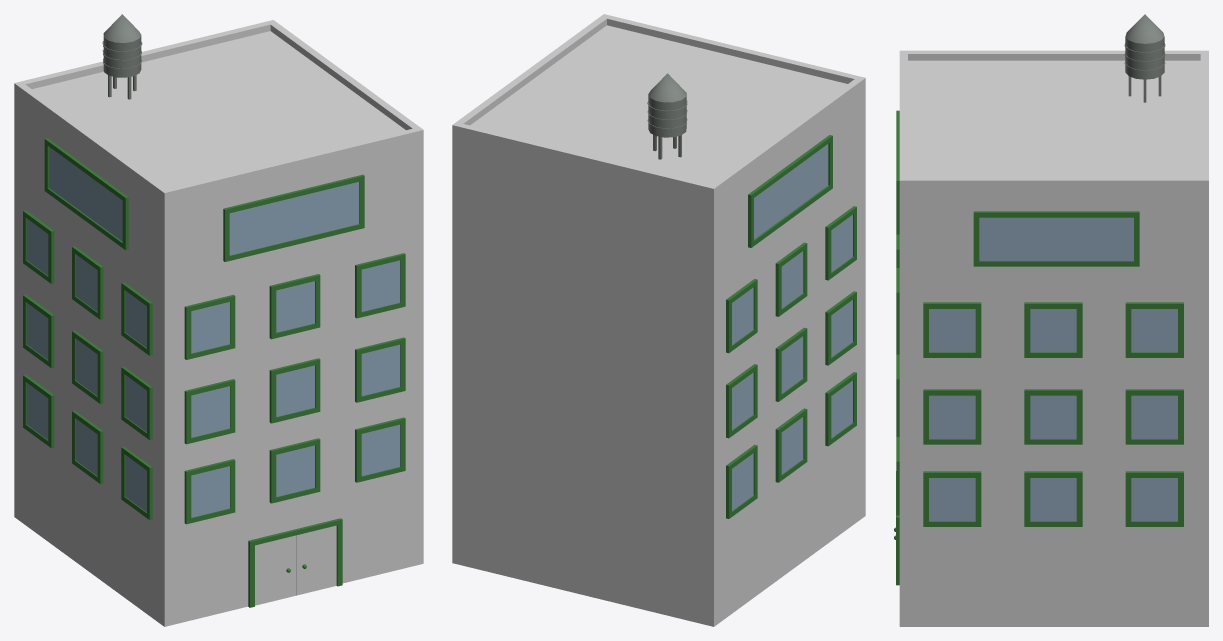
The model's file is thugbuilding_model.fbx.
The picture shows the model from 3 angles, left to right: view 1: azimuth 30°, elevation 25°; view 2: azimuth 150°, elevation 25°; view 3: azimuth 270°, elevation 25°; orthographic projection. The views are drawn at different scales.
Visible parts, largest first — view 1: thug_building; view 2: thug_building; view 3: thug_building.
Part boxes in pixels (<box>): thug_building: <box>14,14,423,626</box>; thug_building: <box>452,14,865,626</box>; thug_building: <box>894,14,1208,626</box>.
Bounding box in the file's own units: 61.43 × 112 × 61.31.
